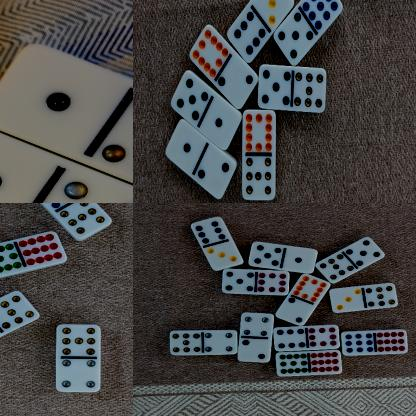pip-1: (0, 45, 113, 148), (0, 122, 34, 203), (202, 103, 241, 151), (165, 121, 201, 171), (282, 246, 318, 274)
pip-10: (189, 24, 228, 80), (242, 111, 275, 155), (292, 274, 330, 303)
pip-11: (0, 243, 23, 279), (274, 352, 308, 376)
pip-12: (18, 232, 66, 267), (308, 350, 343, 376), (375, 330, 407, 355)
pip-2: (198, 149, 235, 200), (217, 64, 258, 110), (274, 297, 307, 326), (236, 338, 271, 364)
pip-3: (204, 242, 244, 272), (329, 286, 363, 315), (256, 0, 293, 26)
pip-4: (54, 358, 101, 394), (202, 330, 237, 356), (239, 314, 273, 338)
pip-5: (170, 70, 208, 124), (274, 14, 313, 65), (258, 64, 292, 110), (344, 237, 384, 268), (248, 241, 282, 270), (220, 270, 256, 294)
pip-6: (228, 11, 265, 63), (190, 218, 226, 245), (271, 326, 307, 352)
pip-7: (101, 91, 133, 191), (58, 203, 111, 243), (54, 324, 101, 359), (242, 156, 276, 202), (292, 68, 326, 113), (0, 291, 39, 330), (314, 254, 354, 284), (168, 330, 203, 357), (364, 284, 397, 309)
pip-8: (306, 325, 340, 350), (256, 272, 289, 296)
pip-9: (301, 0, 342, 31), (341, 330, 375, 356)
